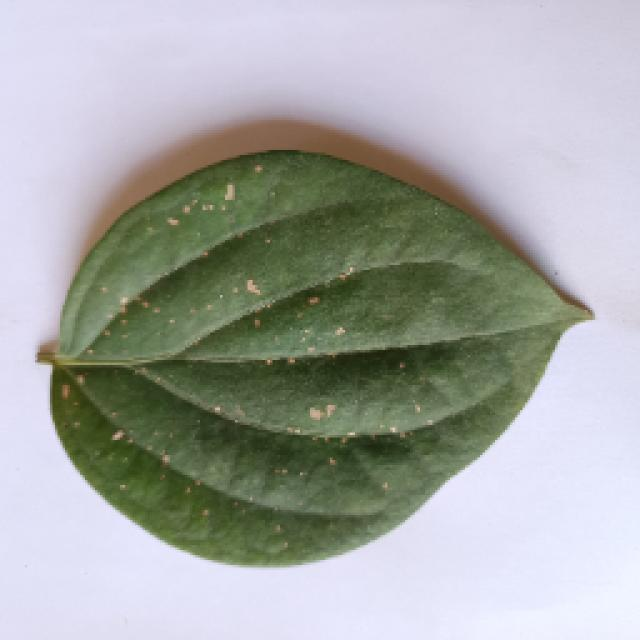pollu-disease: (38, 142, 592, 572)
